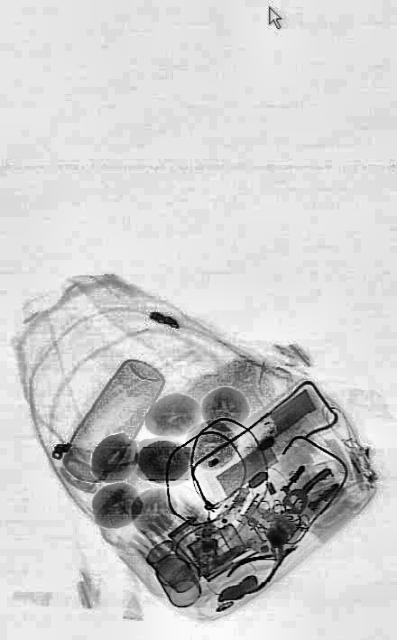Pliers: (222, 524, 302, 606)
